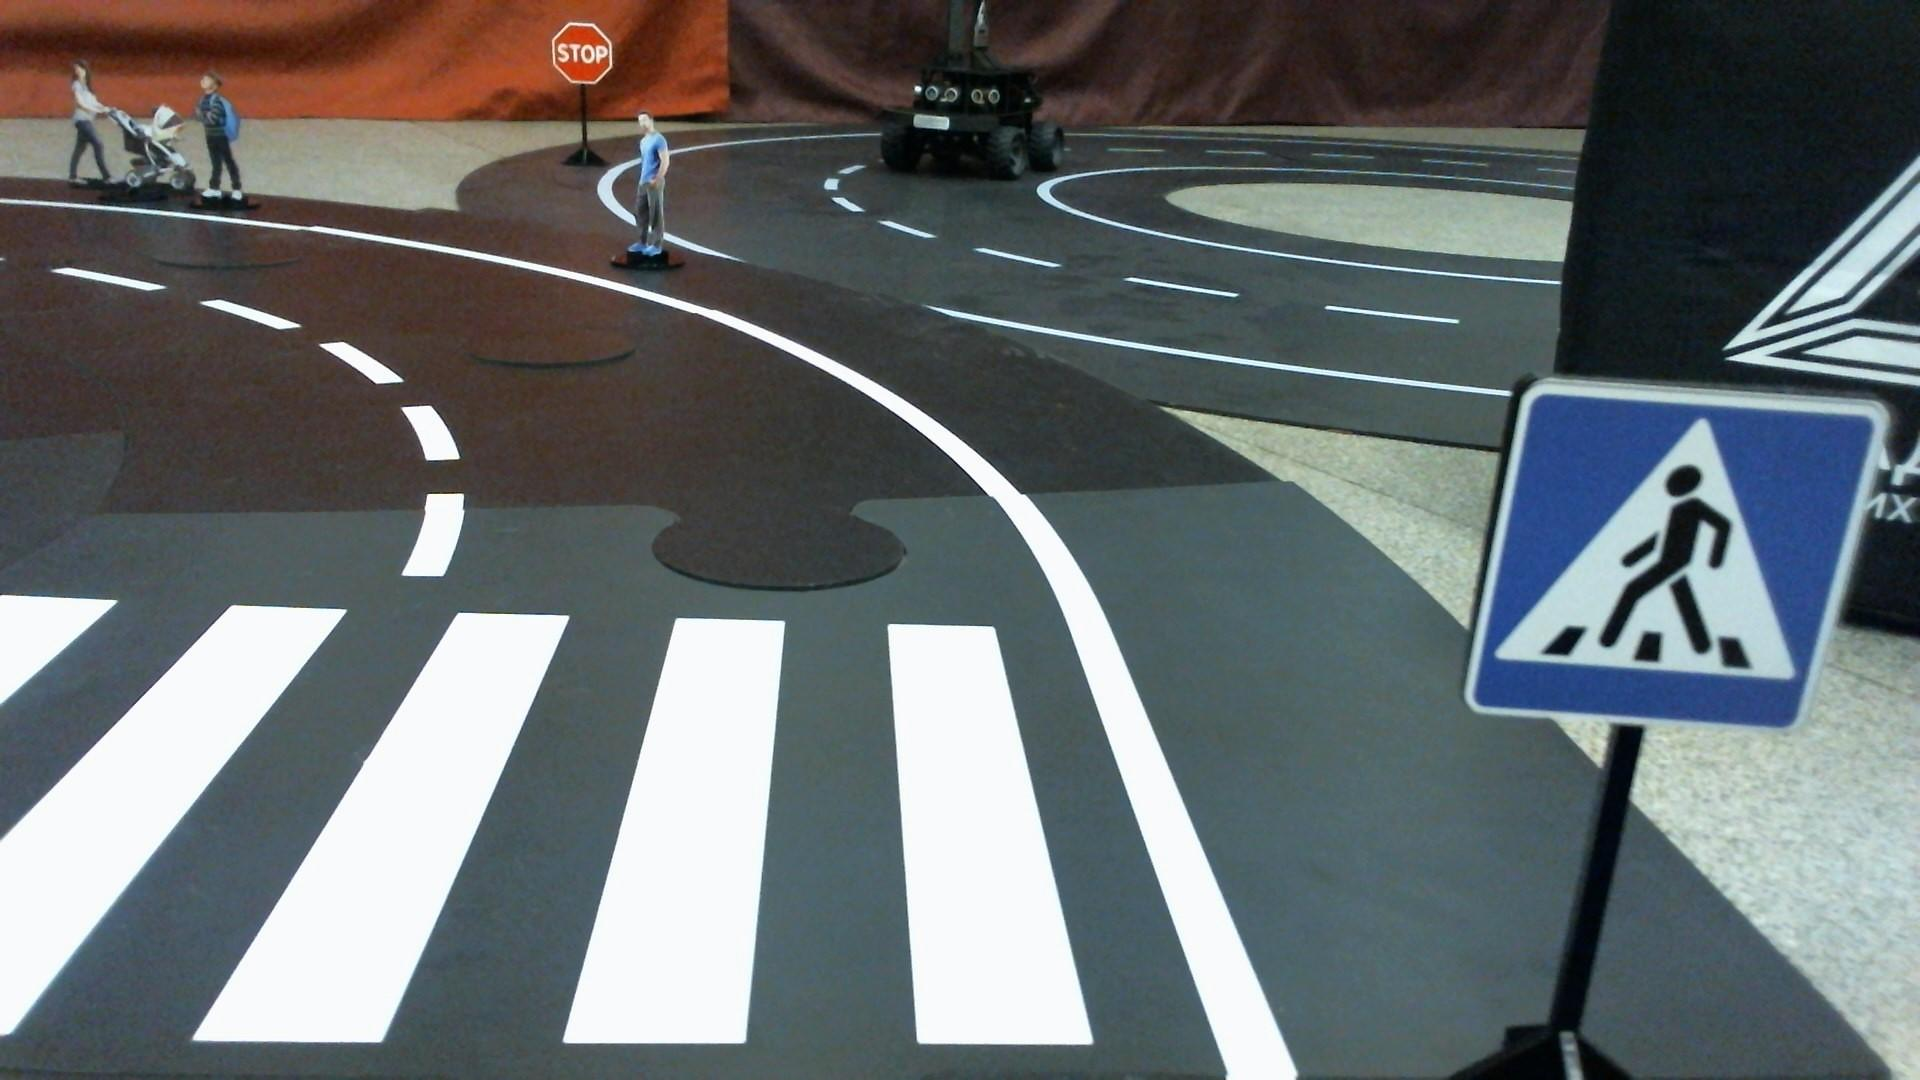crossing: (0, 544, 1141, 1066)
person: (63, 55, 188, 207), (612, 100, 682, 277), (203, 60, 242, 210)
